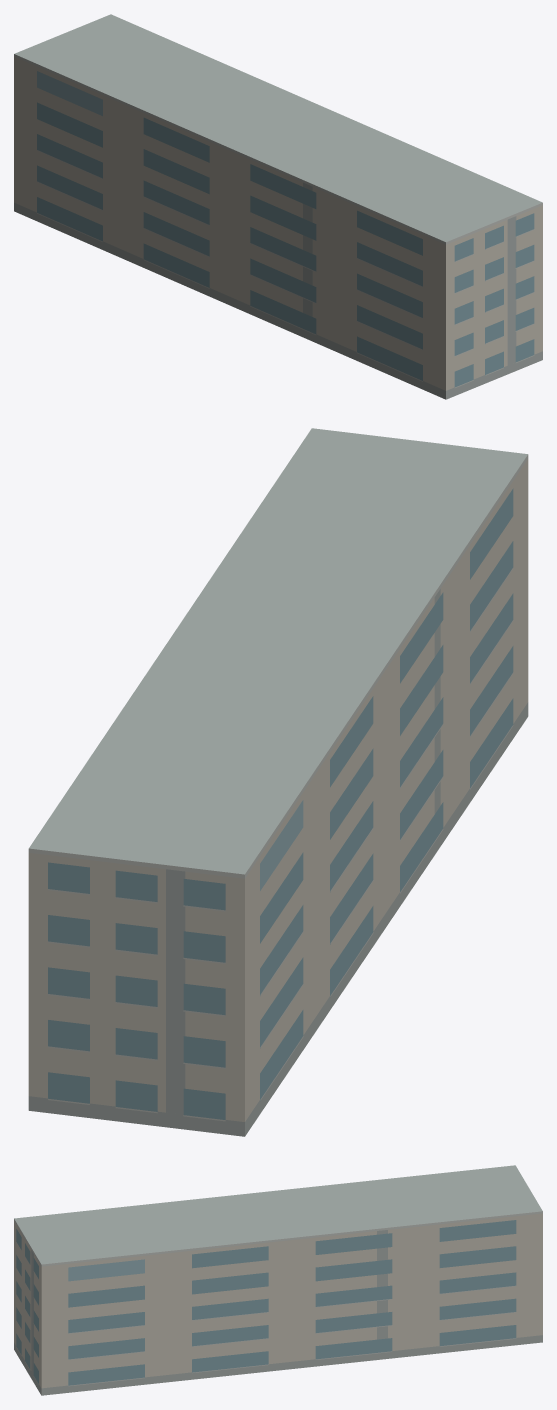
Rendered from residential-7e8b84f3-7a04-479f-80dd-2cca55f38d48.glb.
3 views of the same model, one above another, from view 1: azimuth 30°, elevation 25°; view 2: azimuth 150°, elevation 25°; view 3: azimuth 270°, elevation 25° (orthographic). The views are drawn at different scales.
Parts seen in each view (by area): view 1: residential-7e8b84f3-7a04-479f-80dd-2cca55f38d48.tmp; view 2: residential-7e8b84f3-7a04-479f-80dd-2cca55f38d48.tmp; view 3: residential-7e8b84f3-7a04-479f-80dd-2cca55f38d48.tmp.
Part boxes in pixels (<box>): residential-7e8b84f3-7a04-479f-80dd-2cca55f38d48.tmp: <box>14,14,542,399</box>; residential-7e8b84f3-7a04-479f-80dd-2cca55f38d48.tmp: <box>28,428,528,1136</box>; residential-7e8b84f3-7a04-479f-80dd-2cca55f38d48.tmp: <box>14,1165,542,1395</box>.
Size of the model in its own units: 24.78 by 15.25 by 55.76.
